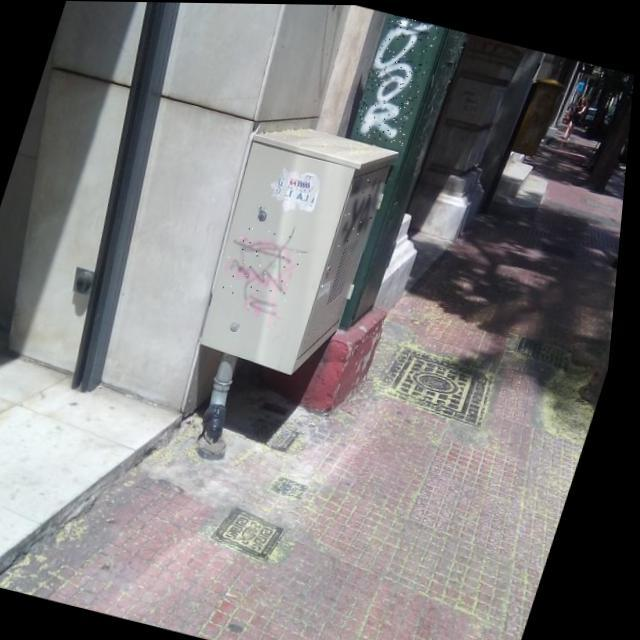-: (353, 11, 441, 144), (218, 222, 312, 316), (339, 175, 389, 252)
